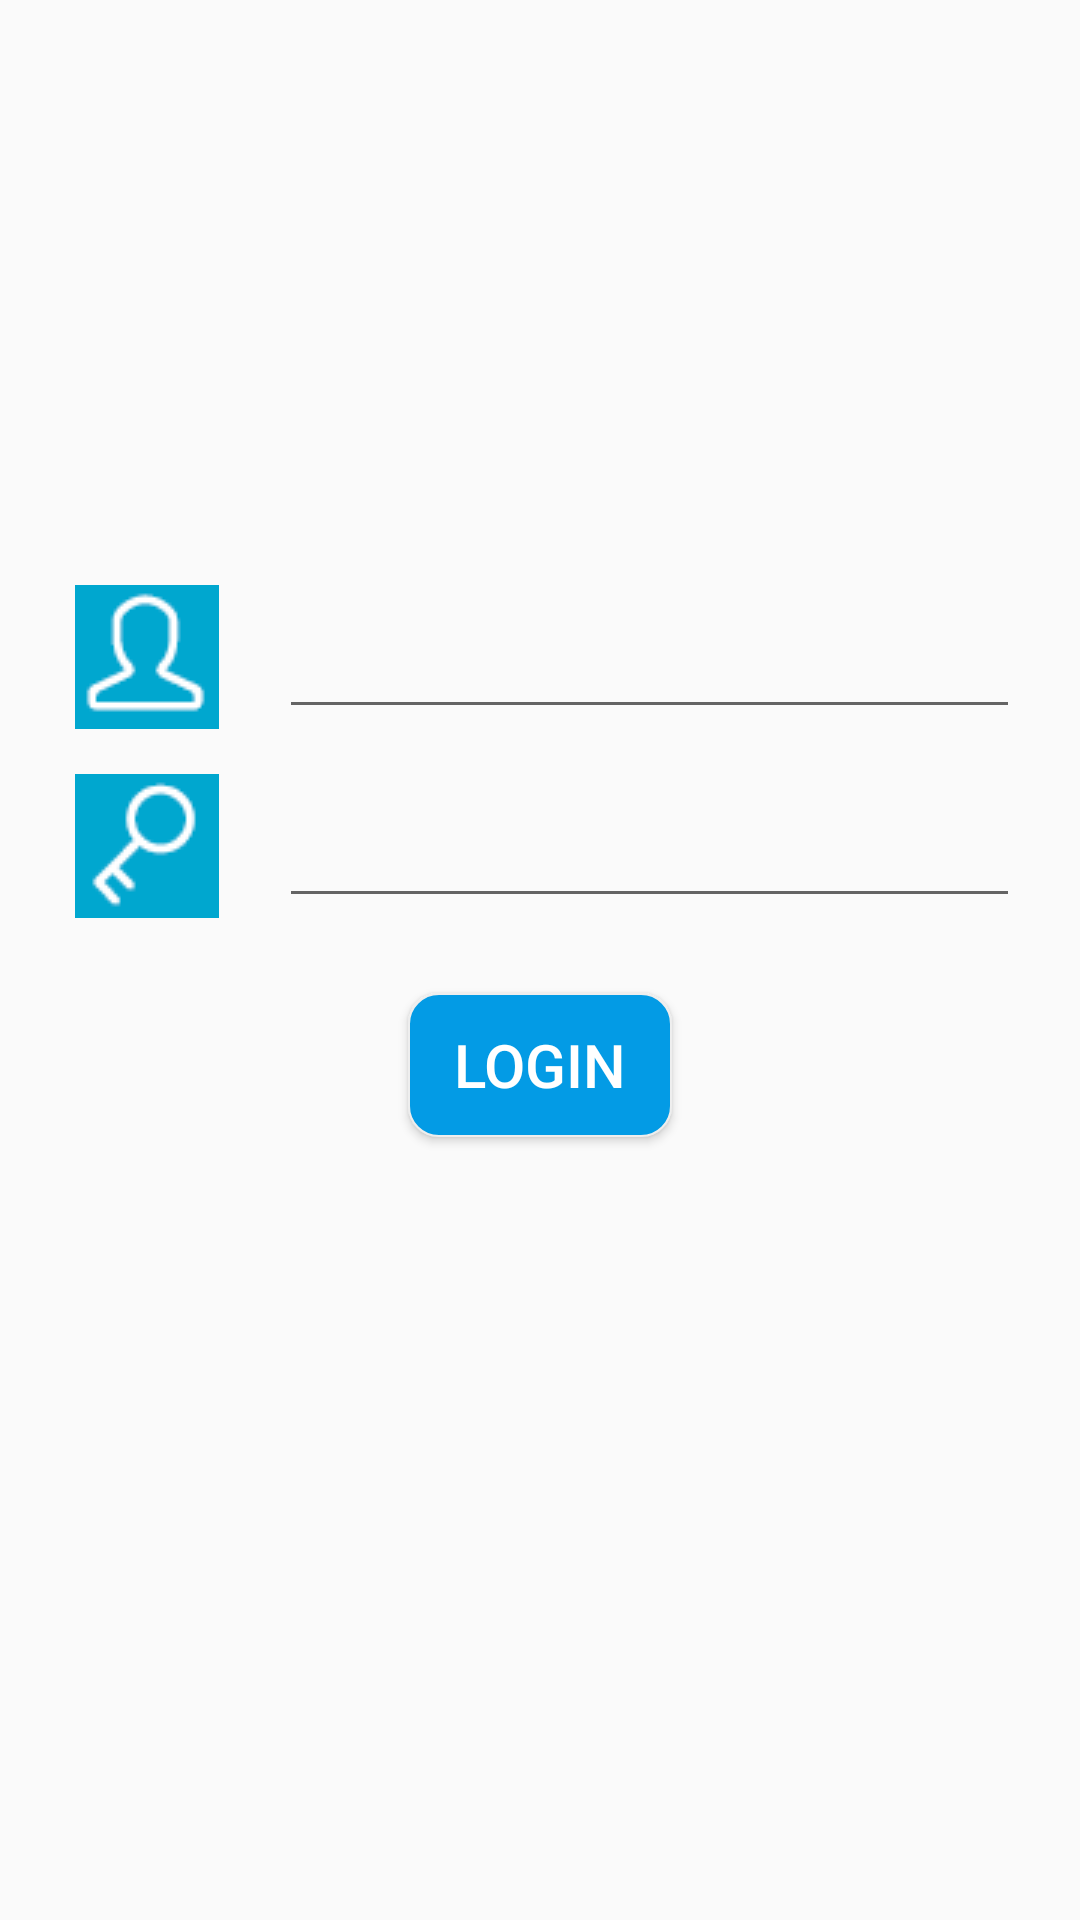

Icons on this 1080*1920 Android screen, each with the point to tap as point (x, y):
password: point (147, 846)
username: point (147, 657)
